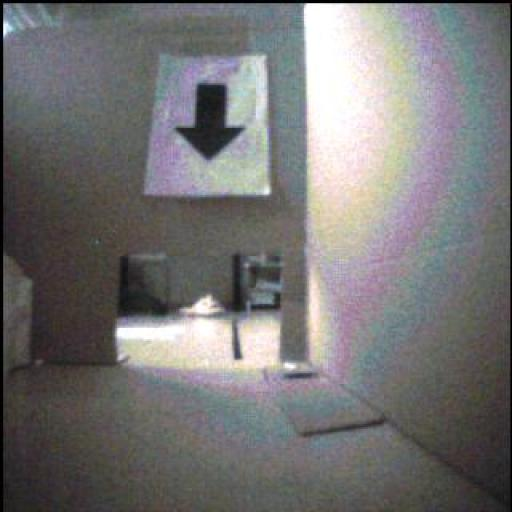arrow: (177, 84, 246, 161)
